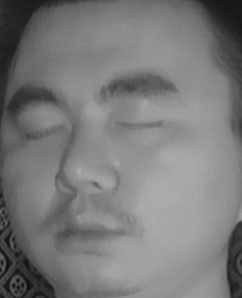blink: (111, 106, 165, 142), (17, 115, 69, 151)
mouth: (45, 200, 136, 260)
